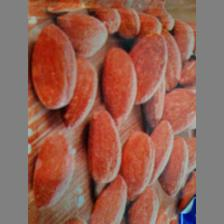Nuss: (28, 0, 196, 224)
